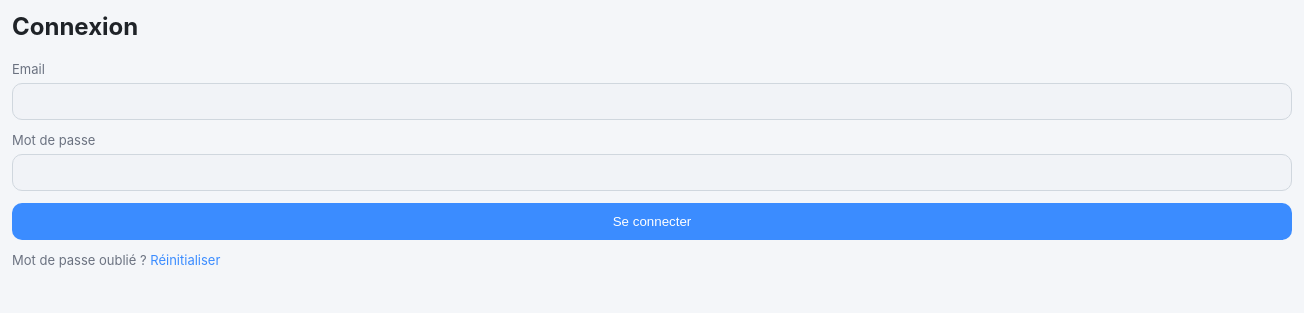
it: LoginPage › shows error on failed login
This screenshot has width=1304, height=313.
Step 1. Type "wrong@test.com" into the field labelled "Email" → [652, 101], box [12,83,1292,120]
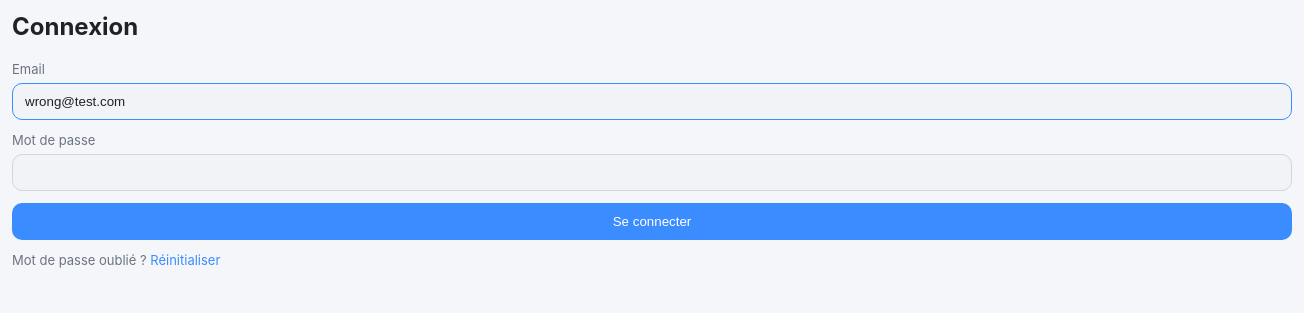
Step 2. Type "wrongpass" into the password field labelled "Mot de passe" → [652, 172], box [12,154,1292,191]
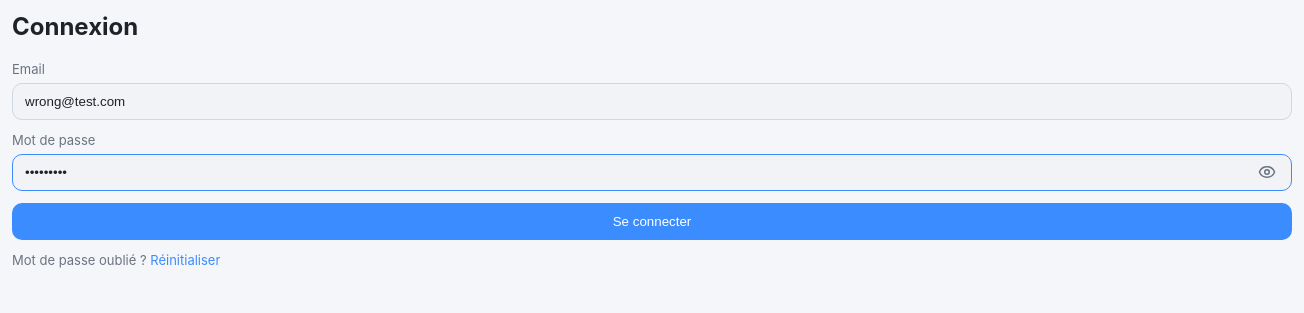
Step 3. Click the button "Se connecter" → [652, 221], box [12,203,1292,240]
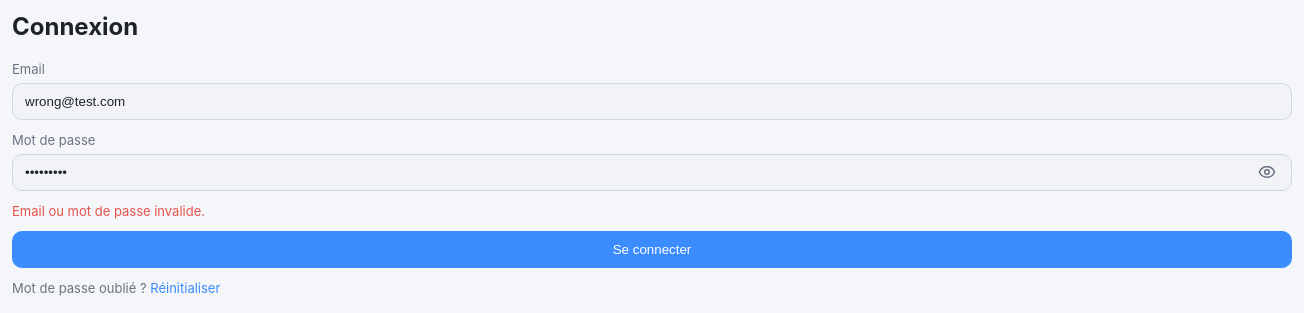
Expected: the text "Email ou mot de passe invalide." is shown, [12,203,205,219]
